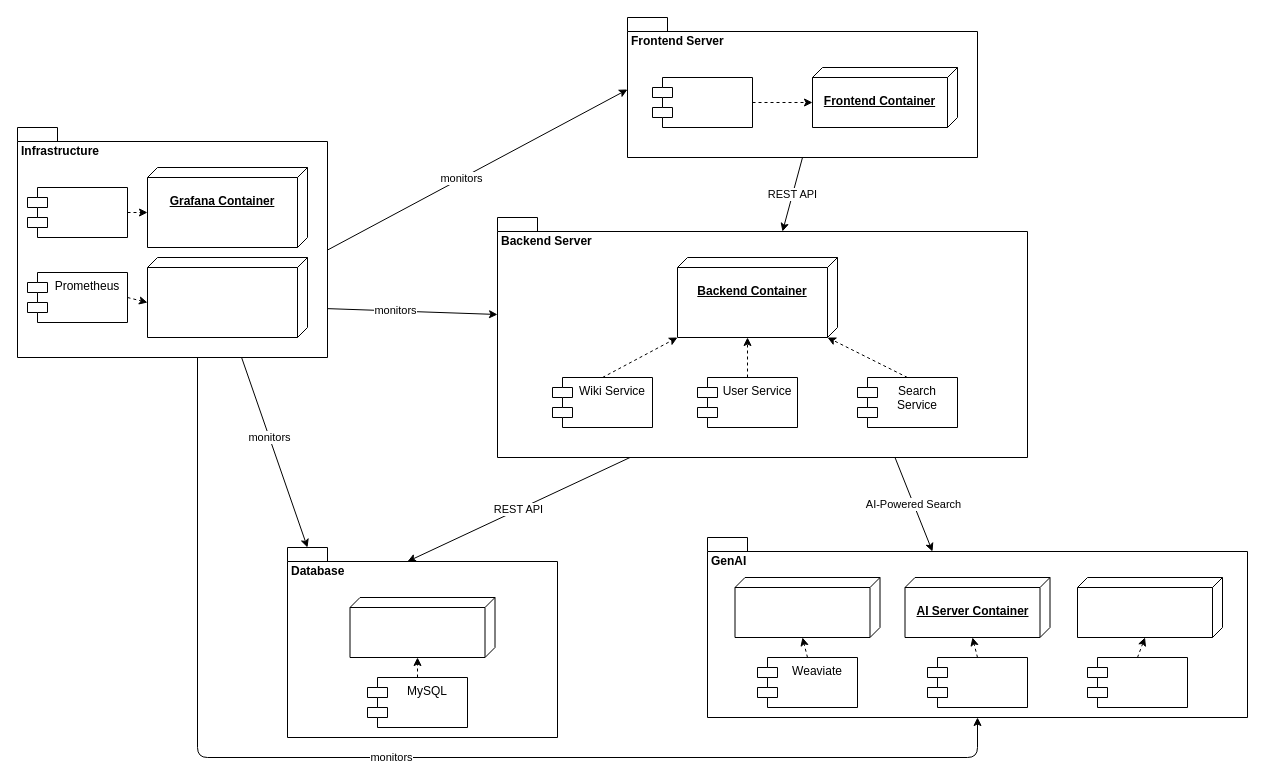
This 1265x783 diagram has some shape labels left out. The centre of each missing label's shape, as x and y in pixels:
AI Service: pixel 977 682
Database Container: pixel 422 627
Frontend Service: pixel 702 102
Grafana: pixel 77 212
LLaMA: pixel 1137 682
Local AI Container: pixel 1149 607
Prometheus Container: pixel 227 297
Vector Database Container: pixel 807 607
